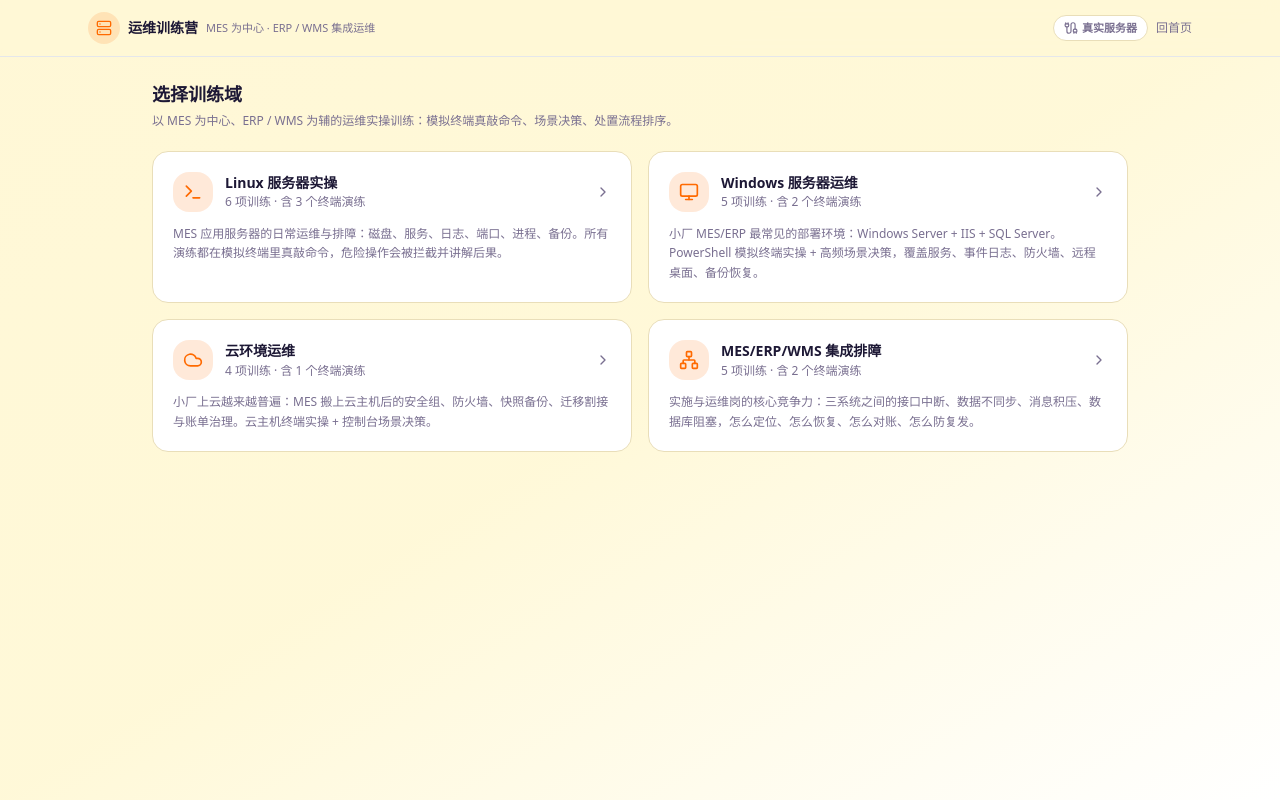
Test: 运维训练营全流程 › 终端「复制全部」把工单上下文 + 终端记录写进剪贴板
Click the text "Linux 服务器实操" at (281, 182), box [225,173,337,192]
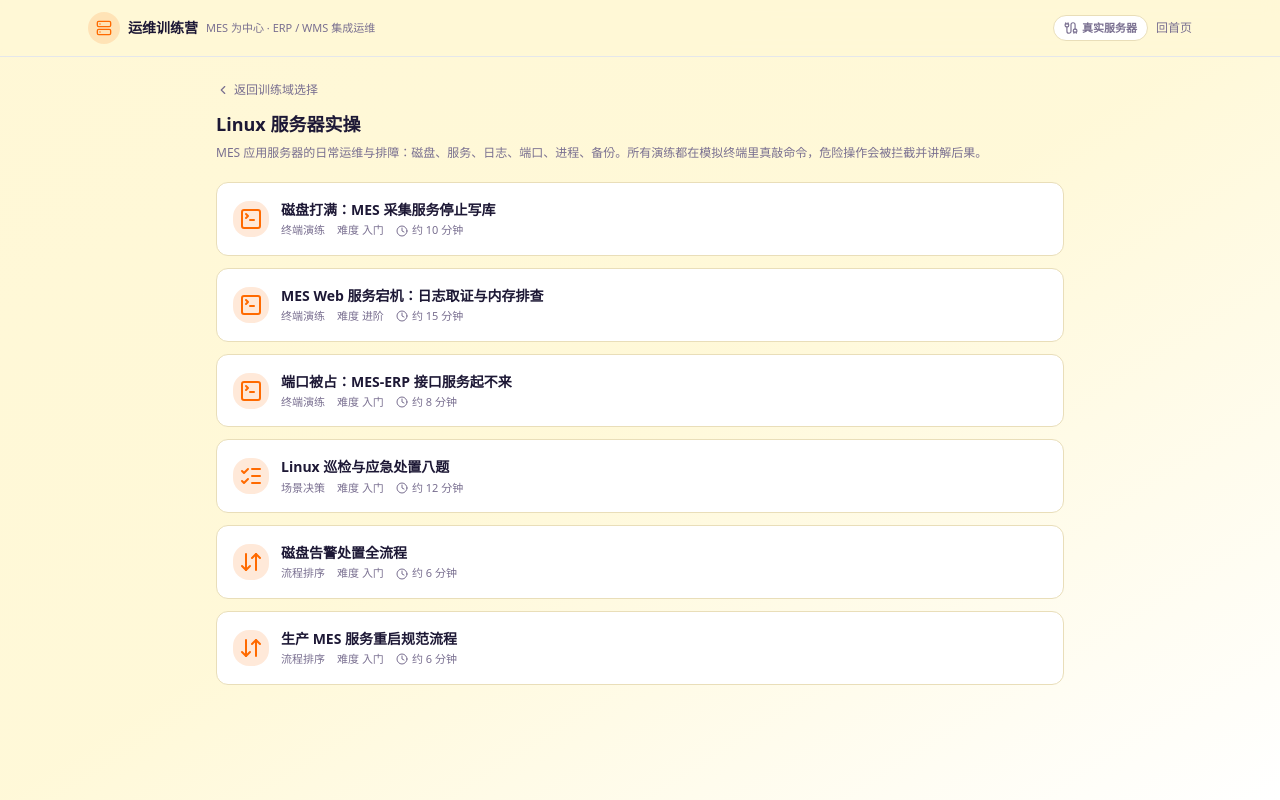
Click the text "磁盘打满：MES 采集服务停止写库" at (388, 210), box [281,200,495,219]
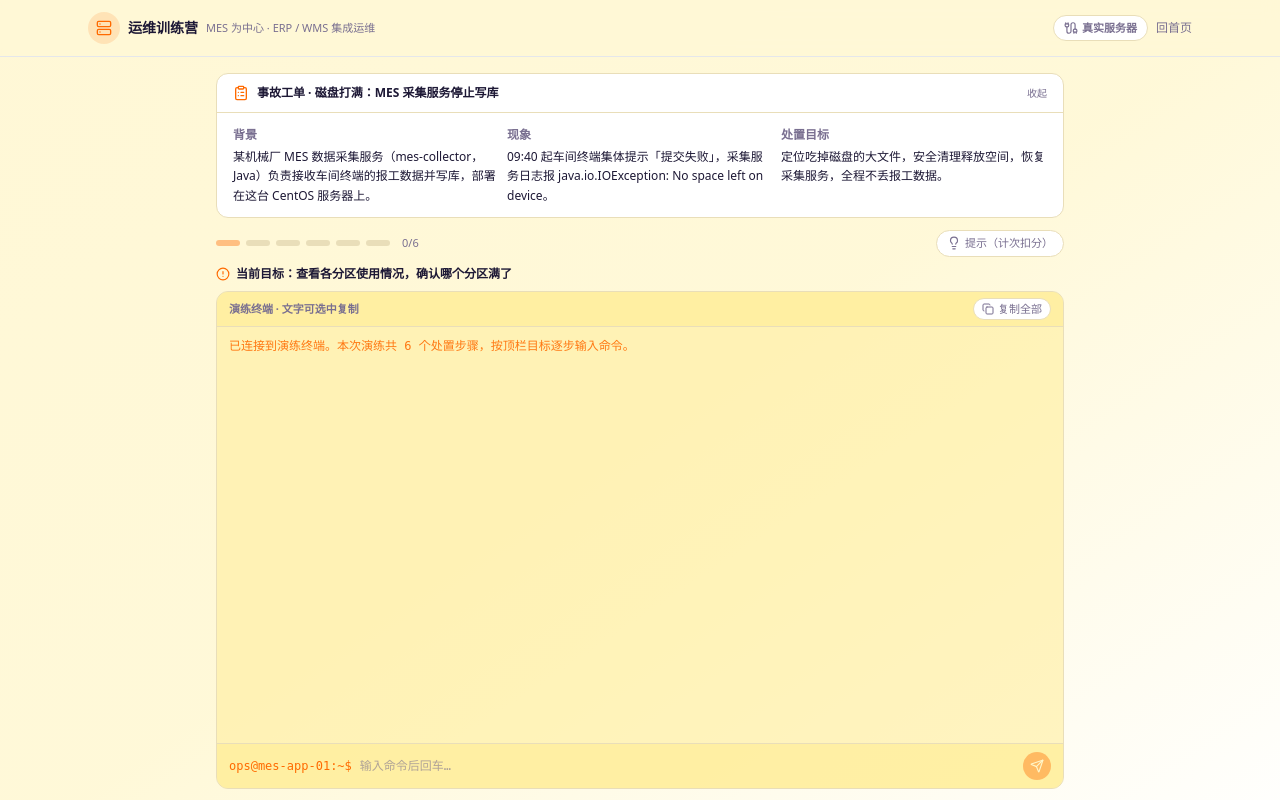
Type "df -h" into the field named "终端命令输入" at (687, 766), box [360,757,1015,776]
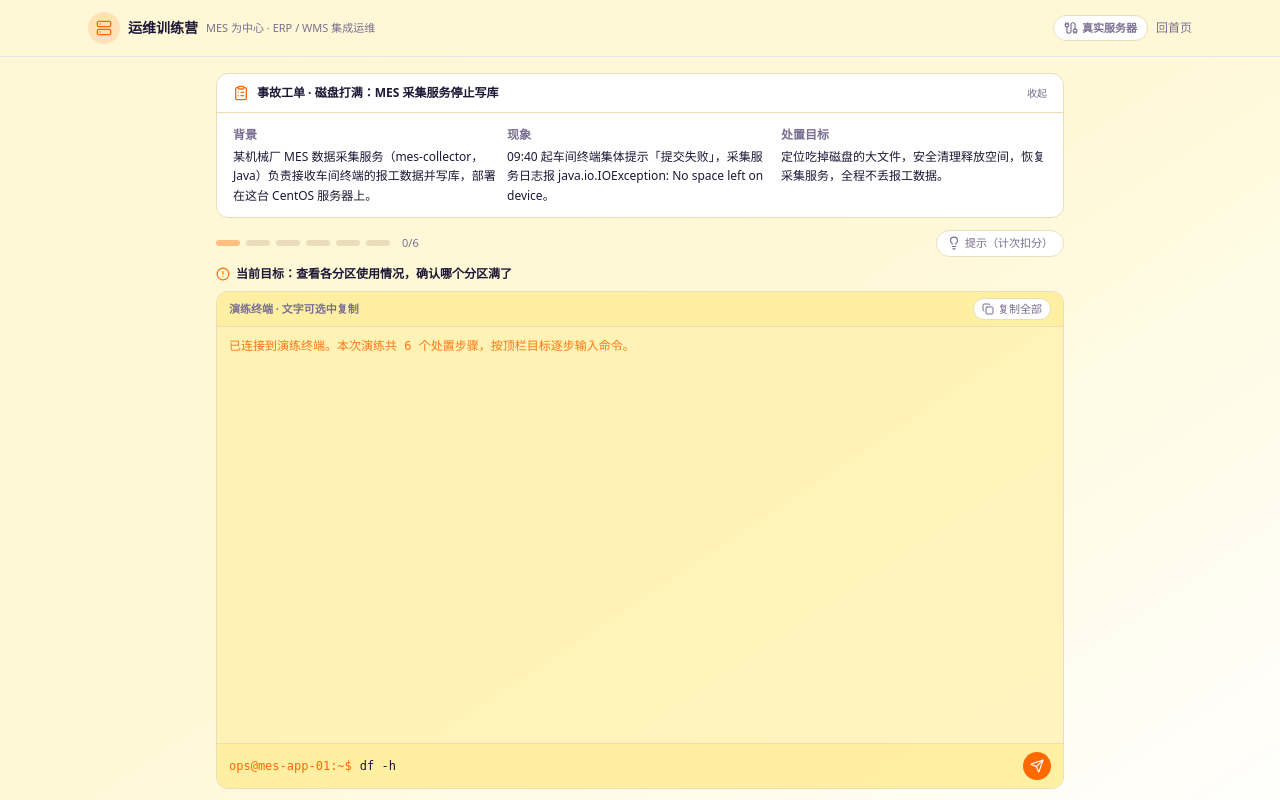
Press Enter in the field named "终端命令输入", box [360,757,1015,776]
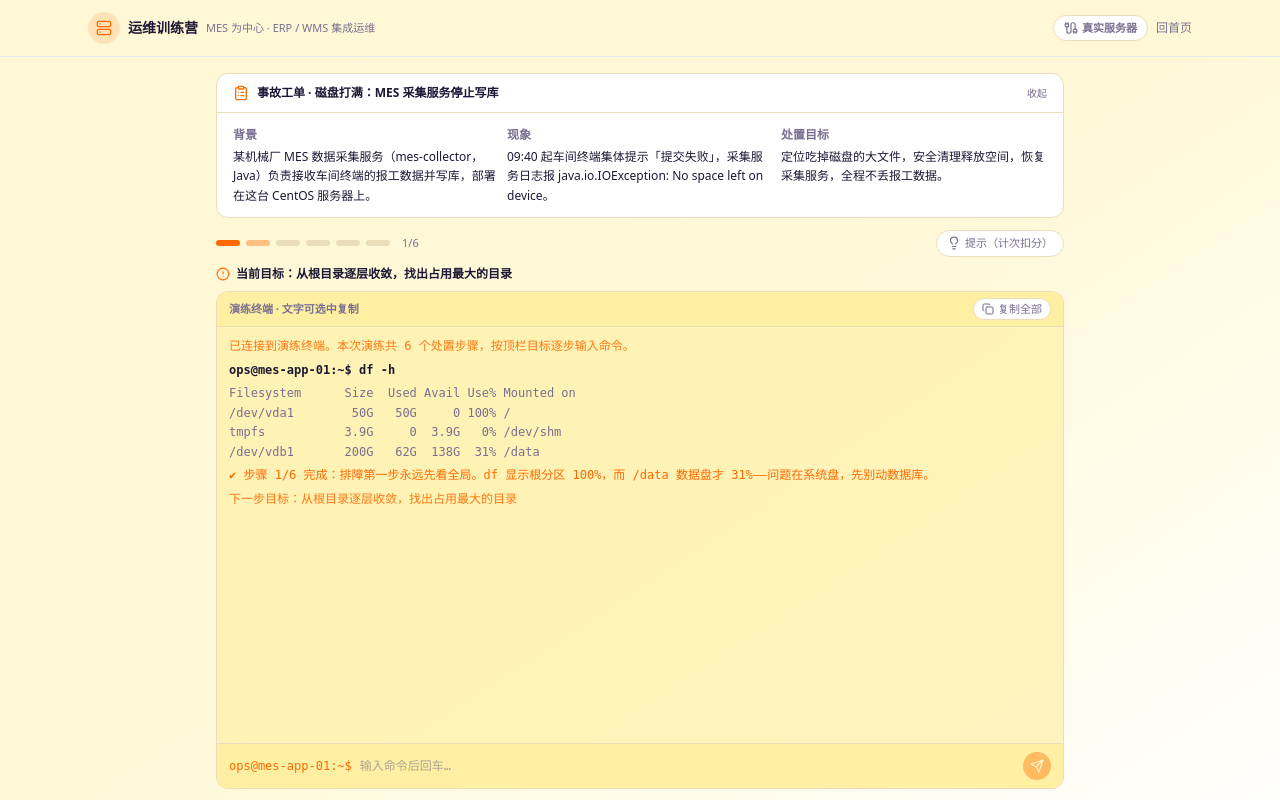
Click the button with aria-label "复制全部终端记录" at (1012, 309), box [973,298,1051,320]
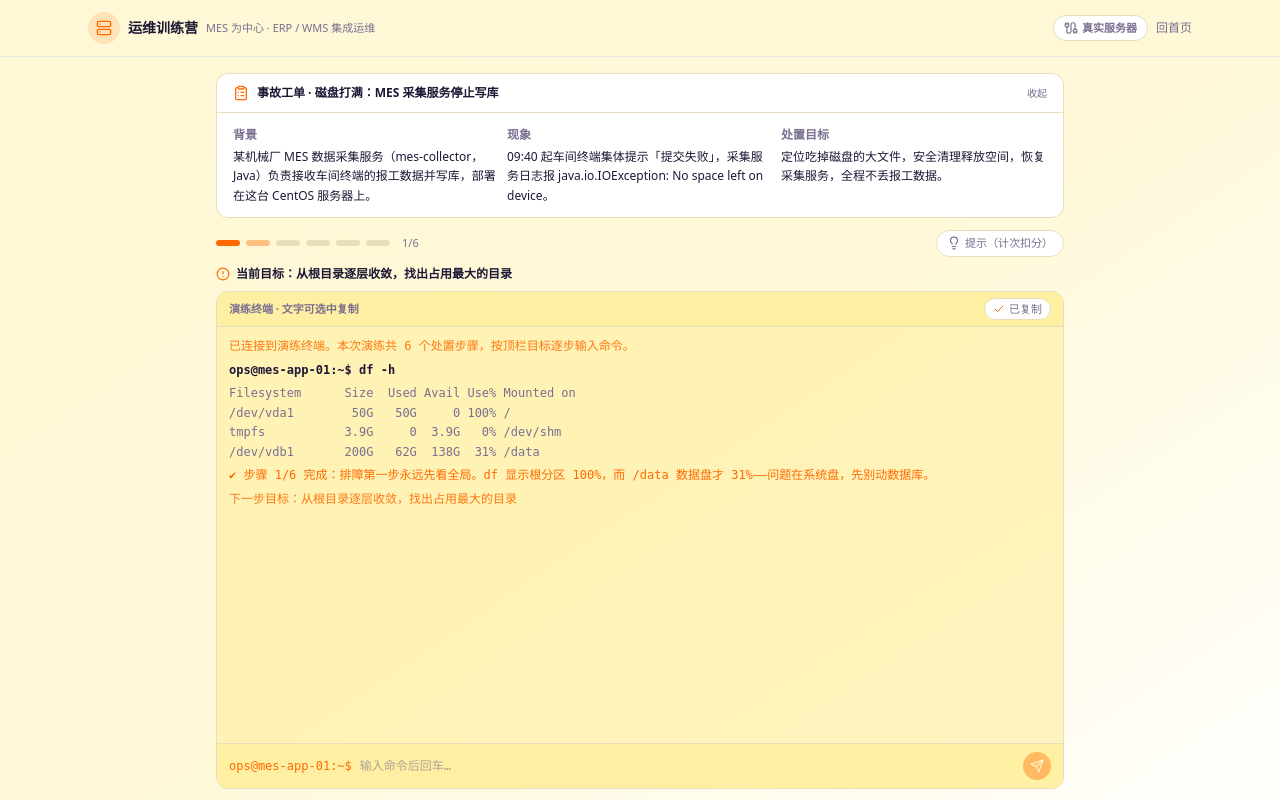
expect the button "已复制" is shown: met, box [984,298,1051,320]
